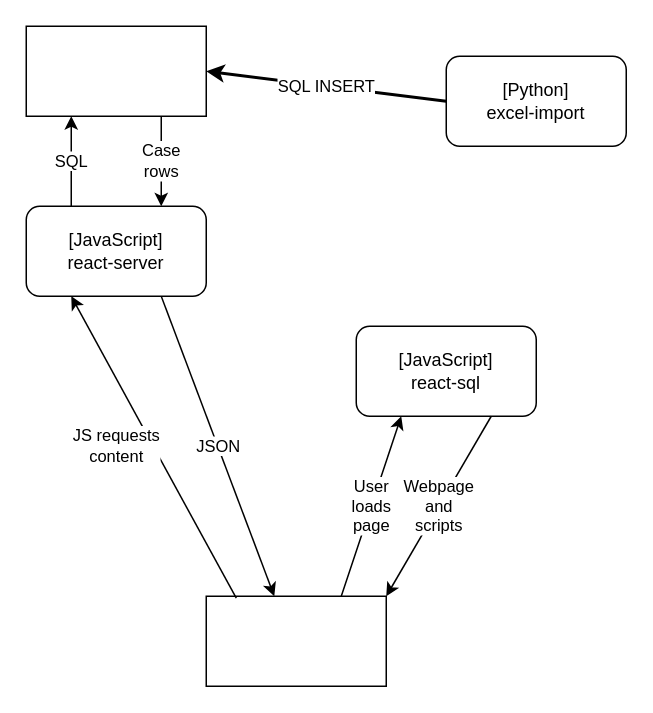
Some shapes in this 653 by 713 pixel diagram are drawn without their labels. Here are the shapes that lost their labels. From the top down, the centre of each, then its label:
[115,70]: MySQL Server 8.0
[295,640]: Browser (runs frontend scripts / html)
